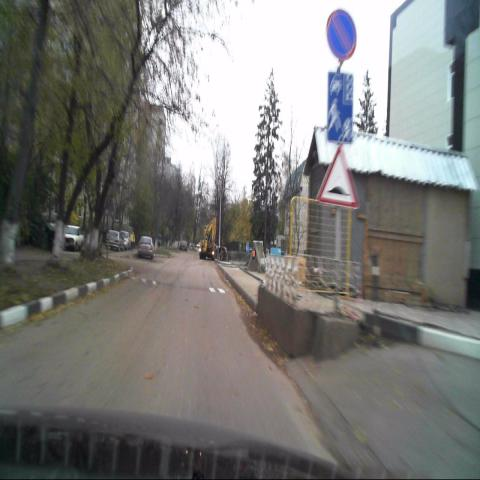3_28: (325, 9, 356, 63)
5_21: (328, 73, 352, 144)
